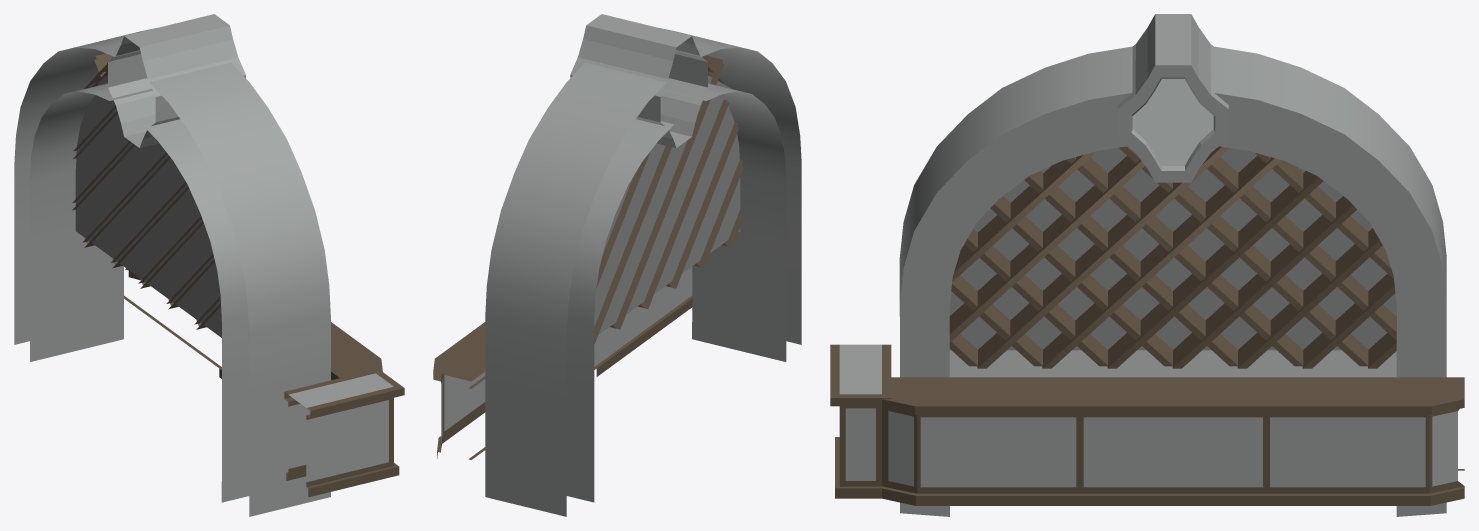
3 renders of one model, left to right at view 1: azimuth 30°, elevation 25°; view 2: azimuth 150°, elevation 25°; view 3: azimuth 270°, elevation 25°, orthographic. The views are drawn at different scales.
Parts seen in each view (by area): view 1: G:\FFXIV-MapTools\exports\s1f3\bg\ffxiv\sea_s1\fld\s1f3\bgpa (×4); view 2: G:\FFXIV-MapTools\exports\s1f3\bg\ffxiv\sea_s1\fld\s1f3\bgpa (×4); view 3: G:\FFXIV-MapTools\exports\s1f3\bg\ffxiv\sea_s1\fld\s1f3\bgpa (×5).
Part boxes in pixels (x1,y1,x2,y2): G:\FFXIV-MapTools\exports\s1f3\bg\ffxiv\sea_s1\fld\s1f3\bgpa (×4): [14, 14, 404, 516]; G:\FFXIV-MapTools\exports\s1f3\bg\ffxiv\sea_s1\fld\s1f3\bgpa (×4): [433, 14, 801, 516]; G:\FFXIV-MapTools\exports\s1f3\bg\ffxiv\sea_s1\fld\s1f3\bgpa (×5): [830, 14, 1464, 516].
Size of the model in its own units: 2.06 by 5.31 by 6.74.
